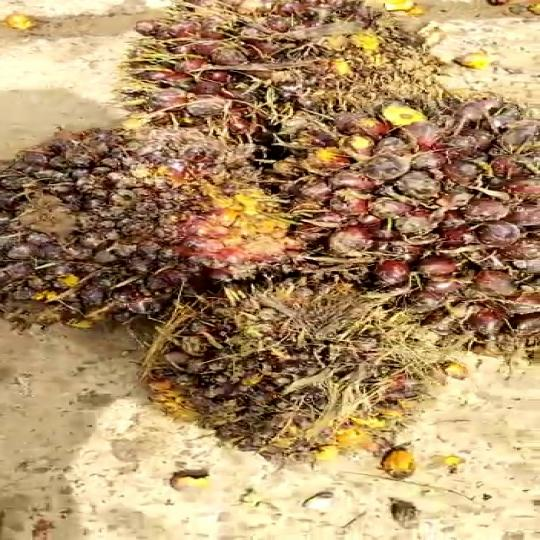kurang masak: (301, 79, 540, 357), (0, 129, 293, 327), (138, 276, 435, 471), (128, 0, 431, 157)
